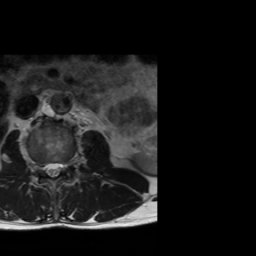CCS_normal: (50, 157, 56, 184)
LFS_stenosis: (63, 157, 71, 178)
LLS_normal: (56, 157, 63, 178)
RFS_stenosis: (37, 157, 44, 180)
RLS_normal: (44, 157, 50, 180)
